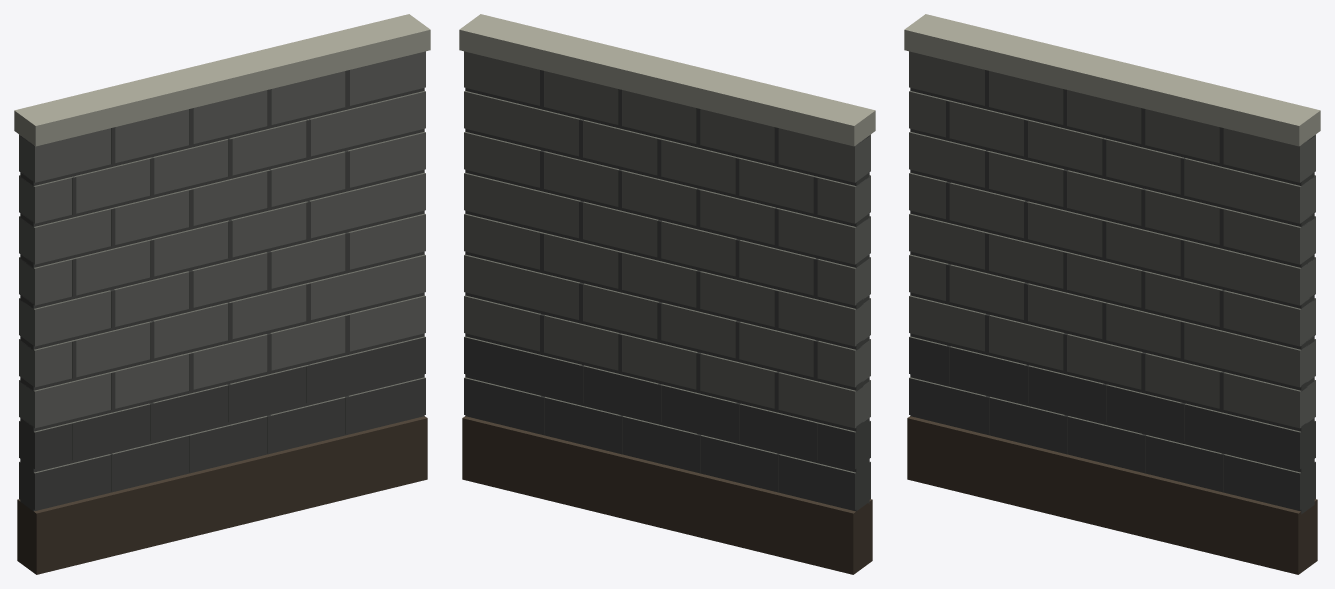
Rendered from BlockWall_B.fbx.
3 views of the same model, side by side, from view 1: azimuth 30°, elevation 25°; view 2: azimuth 150°, elevation 25°; view 3: azimuth 330°, elevation 25° (orthographic).
Visible parts, largest first — view 1: Blocks.001, Base.001, Joints.001, Cap.001; view 2: Blocks.001, Base.001, Joints.001, Cap.001; view 3: Blocks.001, Base.001, Joints.001, Cap.001.
Boxes of the visible parts, x1,y1,x2,y2 form: Blocks.001: [19, 51, 425, 509]; Base.001: [17, 416, 427, 574]; Joints.001: [20, 70, 424, 511]; Cap.001: [14, 14, 430, 146]; Blocks.001: [464, 51, 870, 509]; Base.001: [462, 416, 872, 574]; Joints.001: [465, 70, 869, 511]; Cap.001: [459, 14, 875, 146]; Blocks.001: [909, 51, 1315, 509]; Base.001: [907, 416, 1317, 574]; Joints.001: [910, 70, 1314, 514]; Cap.001: [904, 14, 1320, 146].
Size of the model in its own units: 2.02 by 2.2 by 0.19.
